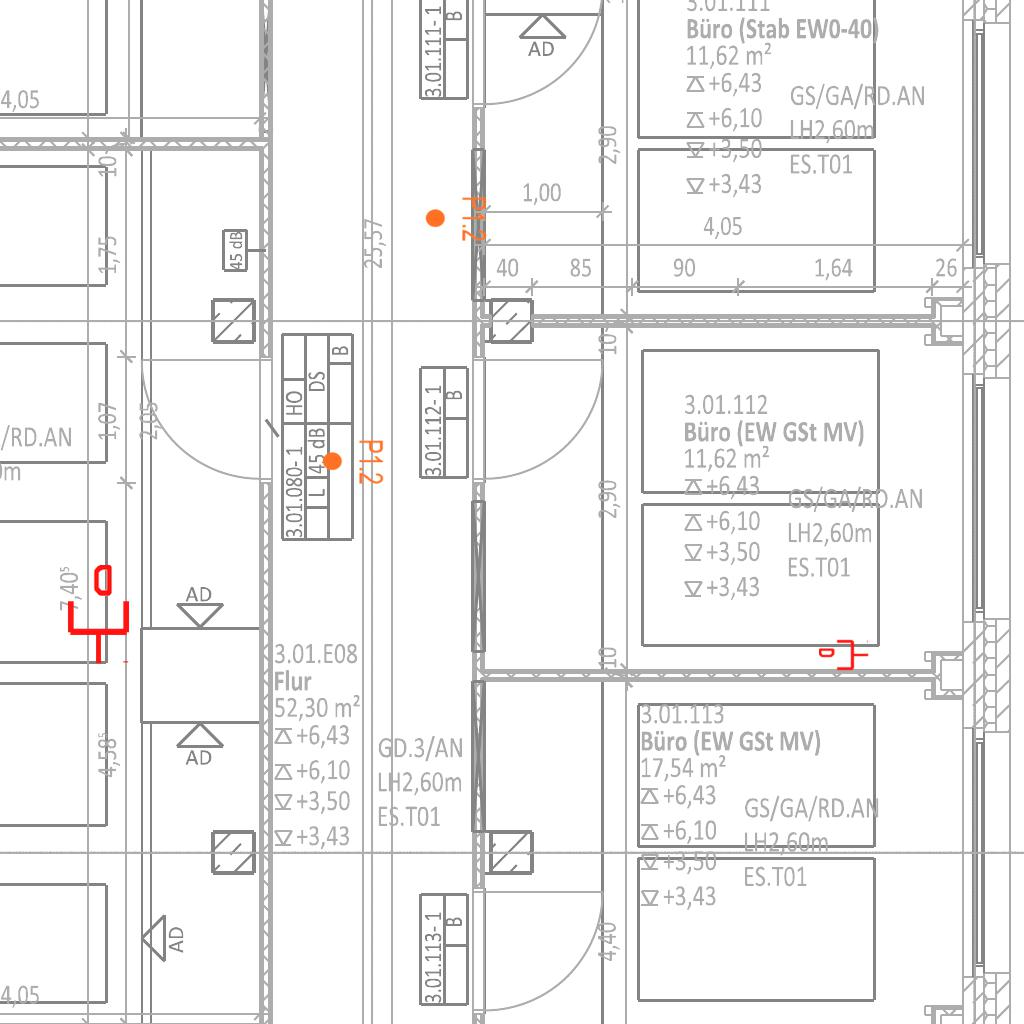Datenanschluss_einfach: (64, 565, 133, 665), (819, 638, 869, 672)
Downlight_LED_Einbauleuchten_Flur: (321, 439, 385, 485), (424, 196, 488, 242)
